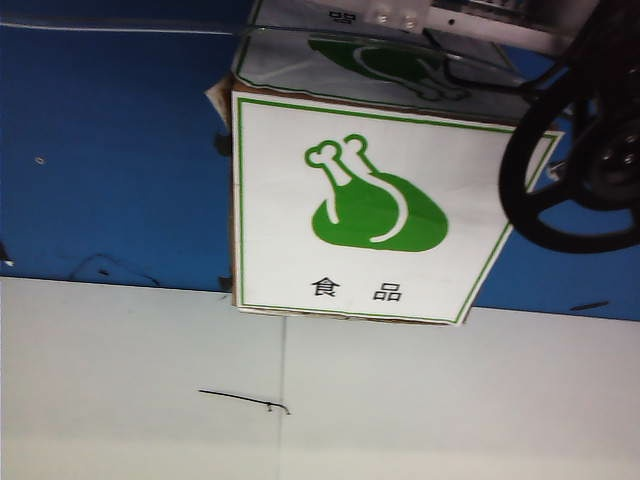Cube_food: (281, 118, 458, 317)
